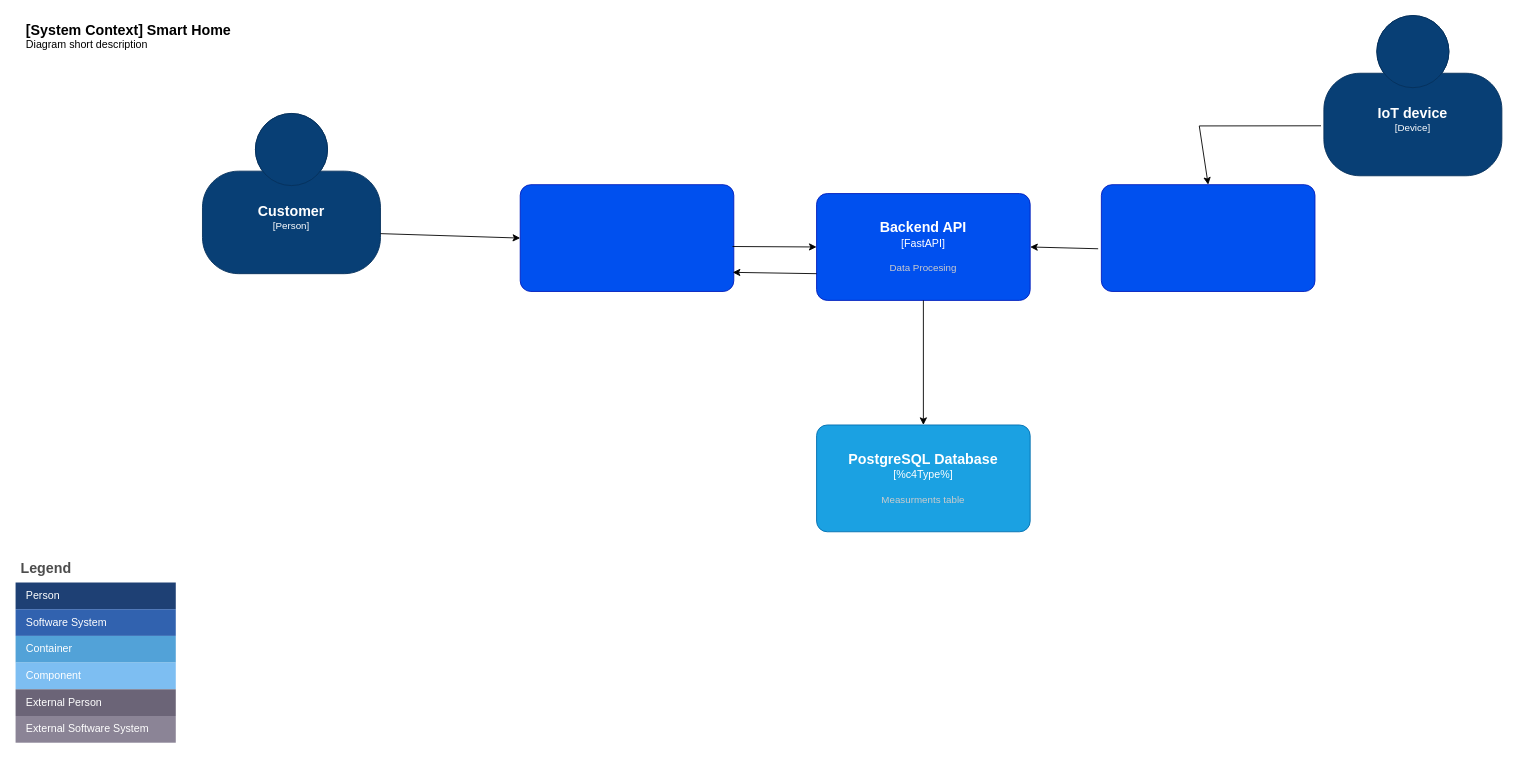
The diagram is 1517 pixels wide and 758 high, and some of its shapes have lost their labels. Here are the shapes that lost their labels. From the top down, the box of each, then its label:
(519, 184, 734, 291): Frontend [HTML/CSS/JS] User interface
(1100, 184, 1315, 291): MQTT Broker [Mosquitto] Message queue
